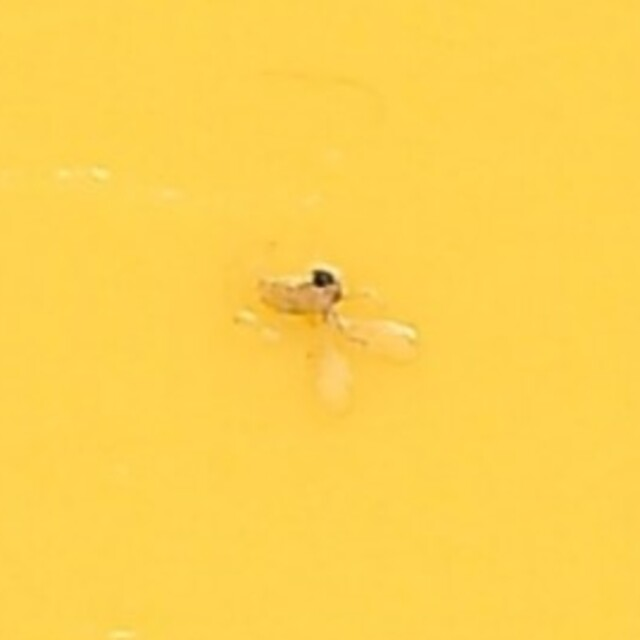Nematocera: (238, 250, 402, 390)
